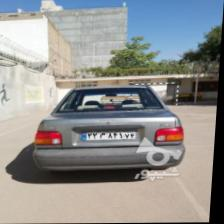plate: (80, 130, 138, 141)
